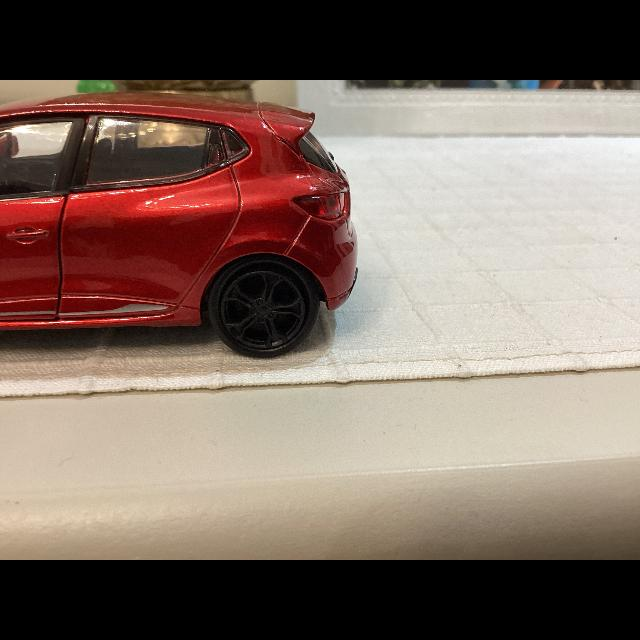Dogru_Jant: (220, 270, 306, 348)
